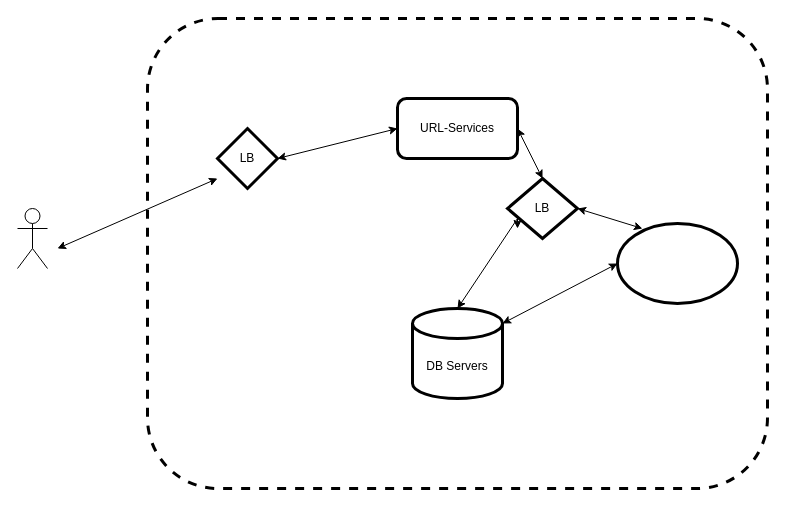
Some shapes in this 786 by 507 pixel diagram are drawn without their labels. Here are the shapes that lost their labels. From the top down, the centre of each, then its label:
At point (32, 238): "Client".
At point (677, 263): "Cache Servers".
